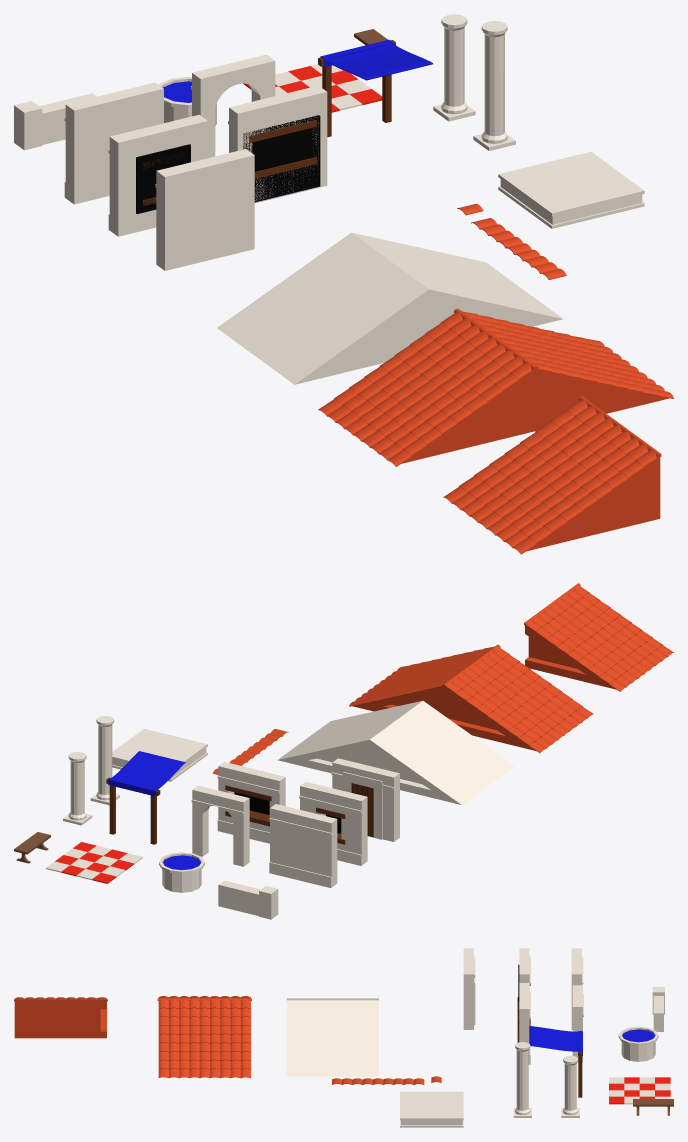
File: Wand normal.fbx
The picture shows the model from 3 angles, top to bottom: view 1: azimuth 30°, elevation 25°; view 2: azimuth 150°, elevation 25°; view 3: azimuth 270°, elevation 25°; orthographic projection. The views are drawn at different scales.
Visible parts, largest first — view 1: Dach mit Ziegeln.001, Dach, Dach mit Ziegeln, Wand Tür, Wand Fenster 1, Wand Fenster 2, Plane.001, Wand Normal, Sonnennblende, Bogen, Säule 2, Boden (+4 smaller); view 2: Dach mit Ziegeln.001, Dach, Dach mit Ziegeln, Wand Normal, Wand Tür, Wand Fenster 1, Wand Fenster 2, Bogen, Sonnennblende, Boden, Plane.001, Zaun (+5 smaller); view 3: Dach mit Ziegeln.001, Dach, Dach mit Ziegeln, Plane.001, Boden, Sonnennblende, Brunnen, Säule 2, Wand Tür, Säule 1, Wand Fenster 1, Bogen (+5 smaller).
Boxes of the visible parts, left/top/right/bottom form: Dach mit Ziegeln.001: left=318, top=308, right=673, bottom=466; Dach: left=217, top=232, right=563, bottom=384; Dach mit Ziegeln: left=443, top=396, right=661, bottom=554; Wand Tür: left=155, top=149, right=254, bottom=270; Wand Fenster 1: left=228, top=85, right=327, bottom=203; Wand Fenster 2: left=108, top=114, right=207, bottom=236; Plane.001: left=498, top=151, right=644, bottom=228; Wand Normal: left=64, top=82, right=163, bottom=204; Sonnennblende: left=318, top=39, right=432, bottom=137; Bogen: left=191, top=54, right=275, bottom=157; Säule 2: left=473, top=21, right=515, bottom=150; Boden: left=243, top=64, right=382, bottom=112; Dach mit Ziegeln.001: left=349, top=644, right=593, bottom=753; Dach: left=277, top=700, right=514, bottom=804; Dach mit Ziegeln: left=524, top=583, right=673, bottom=691; Wand Normal: left=269, top=804, right=337, bottom=887; Wand Tür: left=331, top=758, right=399, bottom=841; Wand Fenster 1: left=217, top=762, right=285, bottom=843; Wand Fenster 2: left=299, top=782, right=367, bottom=865; Bogen: left=191, top=785, right=249, bottom=866; Sonnennblende: left=106, top=751, right=185, bottom=844; Boden: left=46, top=842, right=142, bottom=883; Plane.001: left=112, top=728, right=207, bottom=781; Zaun: left=218, top=880, right=278, bottom=919; Dach mit Ziegeln.001: left=157, top=996, right=251, bottom=1078; Dach: left=286, top=998, right=378, bottom=1076; Dach mit Ziegeln: left=14, top=997, right=107, bottom=1038; Plane.001: left=400, top=1091, right=463, bottom=1127; Boden: left=609, top=1077, right=670, bottom=1104; Sonnennblende: left=529, top=1026, right=582, bottom=1097; Brunnen: left=618, top=1026, right=658, bottom=1061; Säule 2: left=513, top=1042, right=531, bottom=1117; Wand Tür: left=463, top=948, right=475, bottom=1029; Säule 1: left=561, top=1055, right=579, bottom=1117; Wand Fenster 1: left=517, top=983, right=530, bottom=1064; Bogen: left=572, top=985, right=583, bottom=1062.
Size of the model in its own units: 3025 by 753 by 6427.
